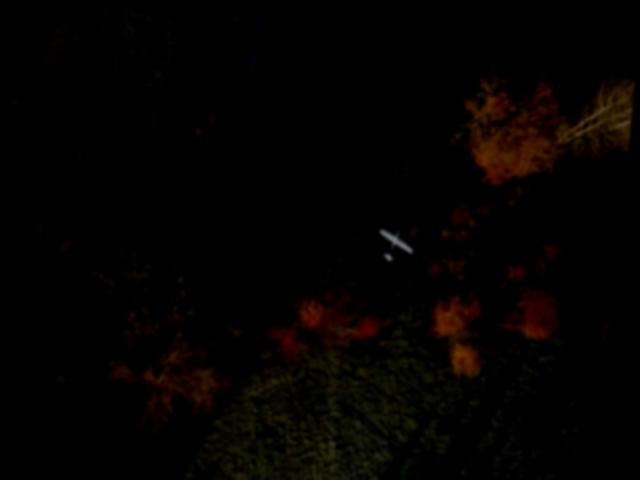uav: (369, 212, 434, 266)
